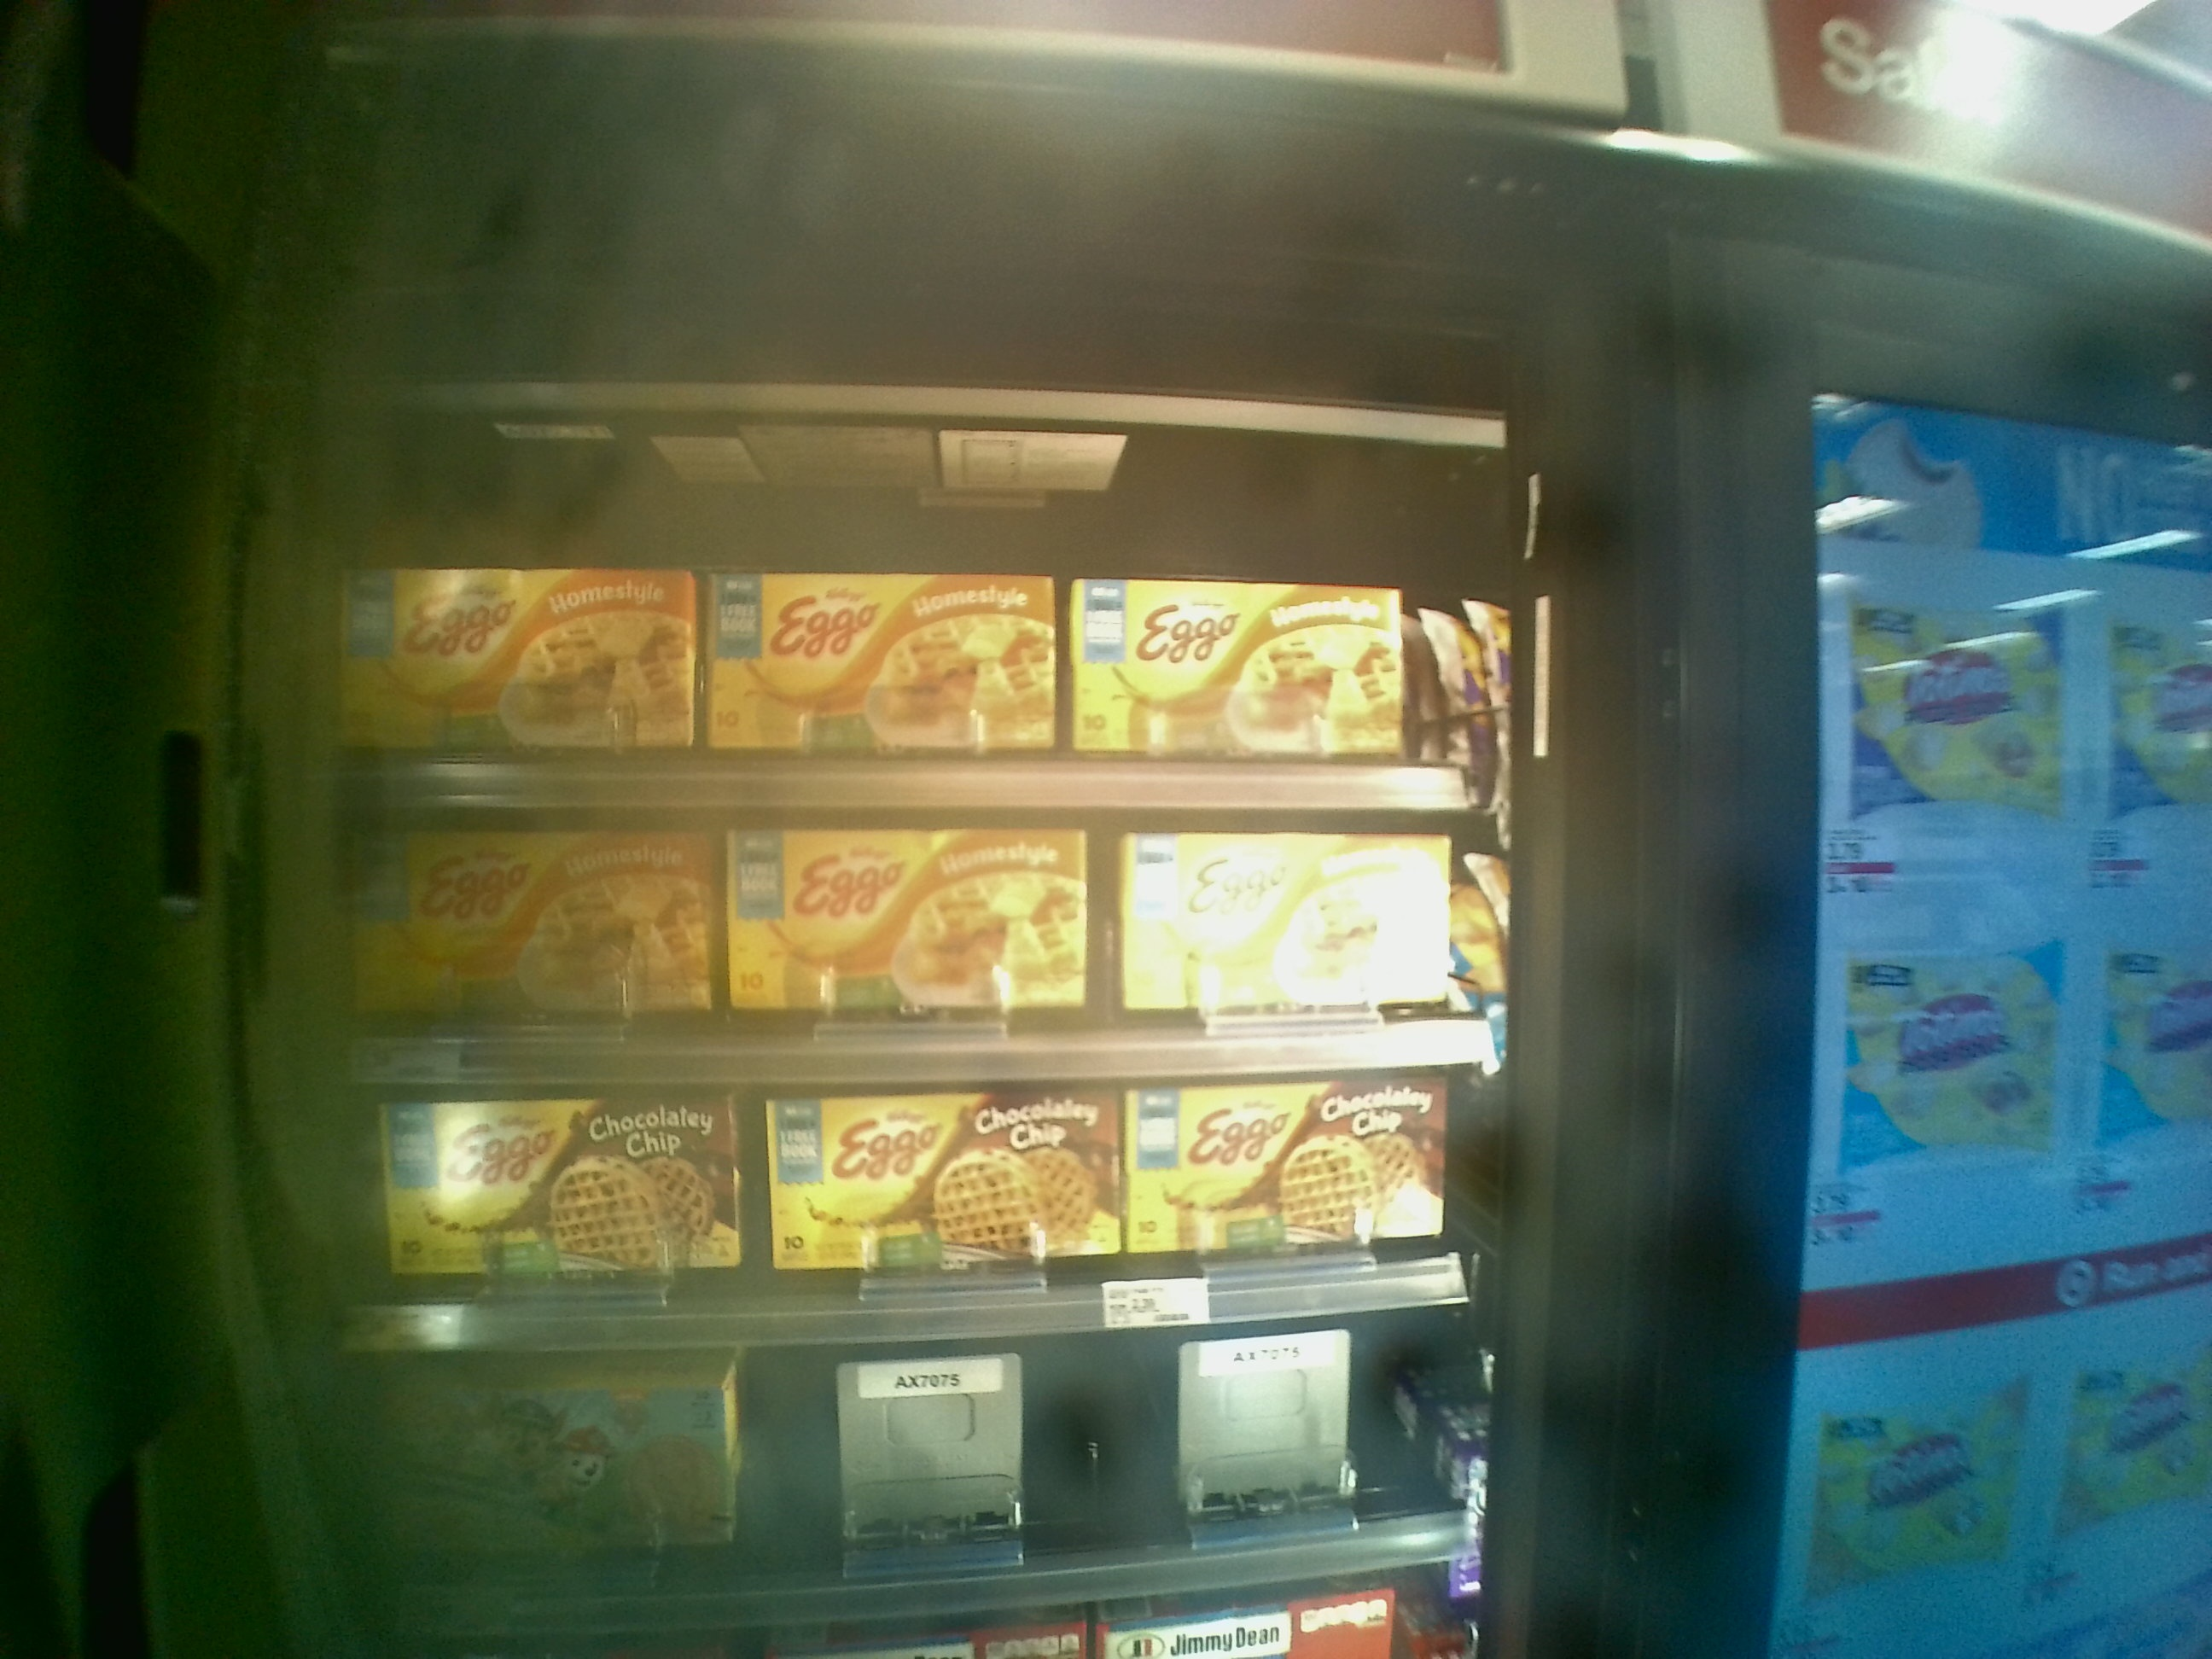shelf: (320, 387, 1519, 812), (354, 1063, 1489, 1345)
